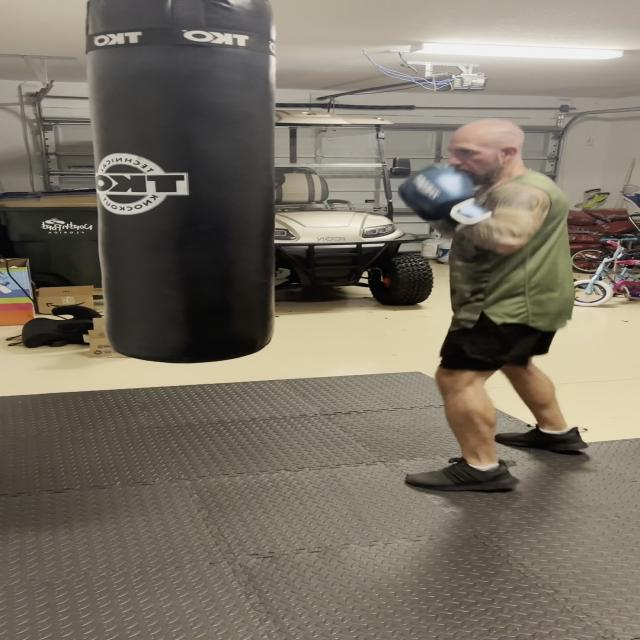bag: (93, 3, 278, 364)
no punch: (386, 123, 558, 259)
